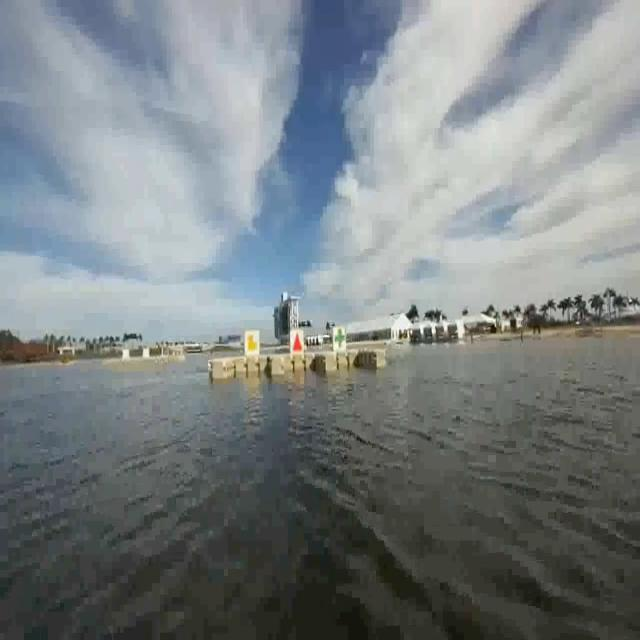blue-cross: (331, 324, 349, 356)
red-dot: (288, 332, 303, 356)
yellow-duck: (246, 329, 261, 356)
